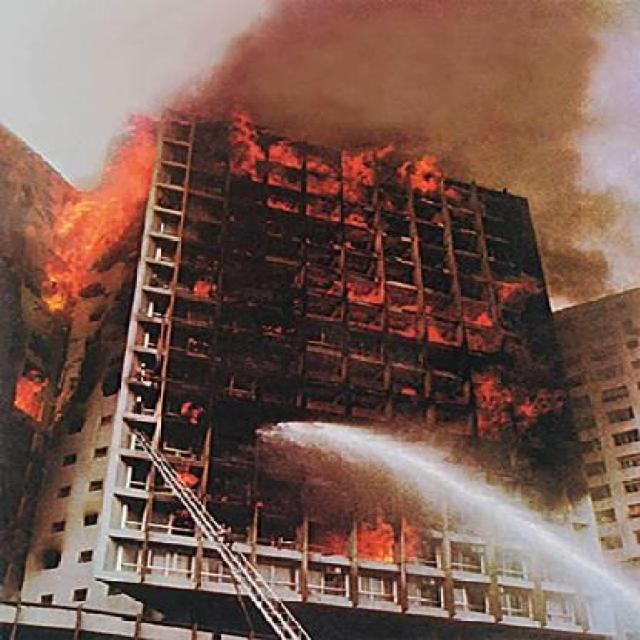Fire: (26, 110, 155, 322), (222, 120, 460, 234)
Smoke: (210, 2, 598, 112)
